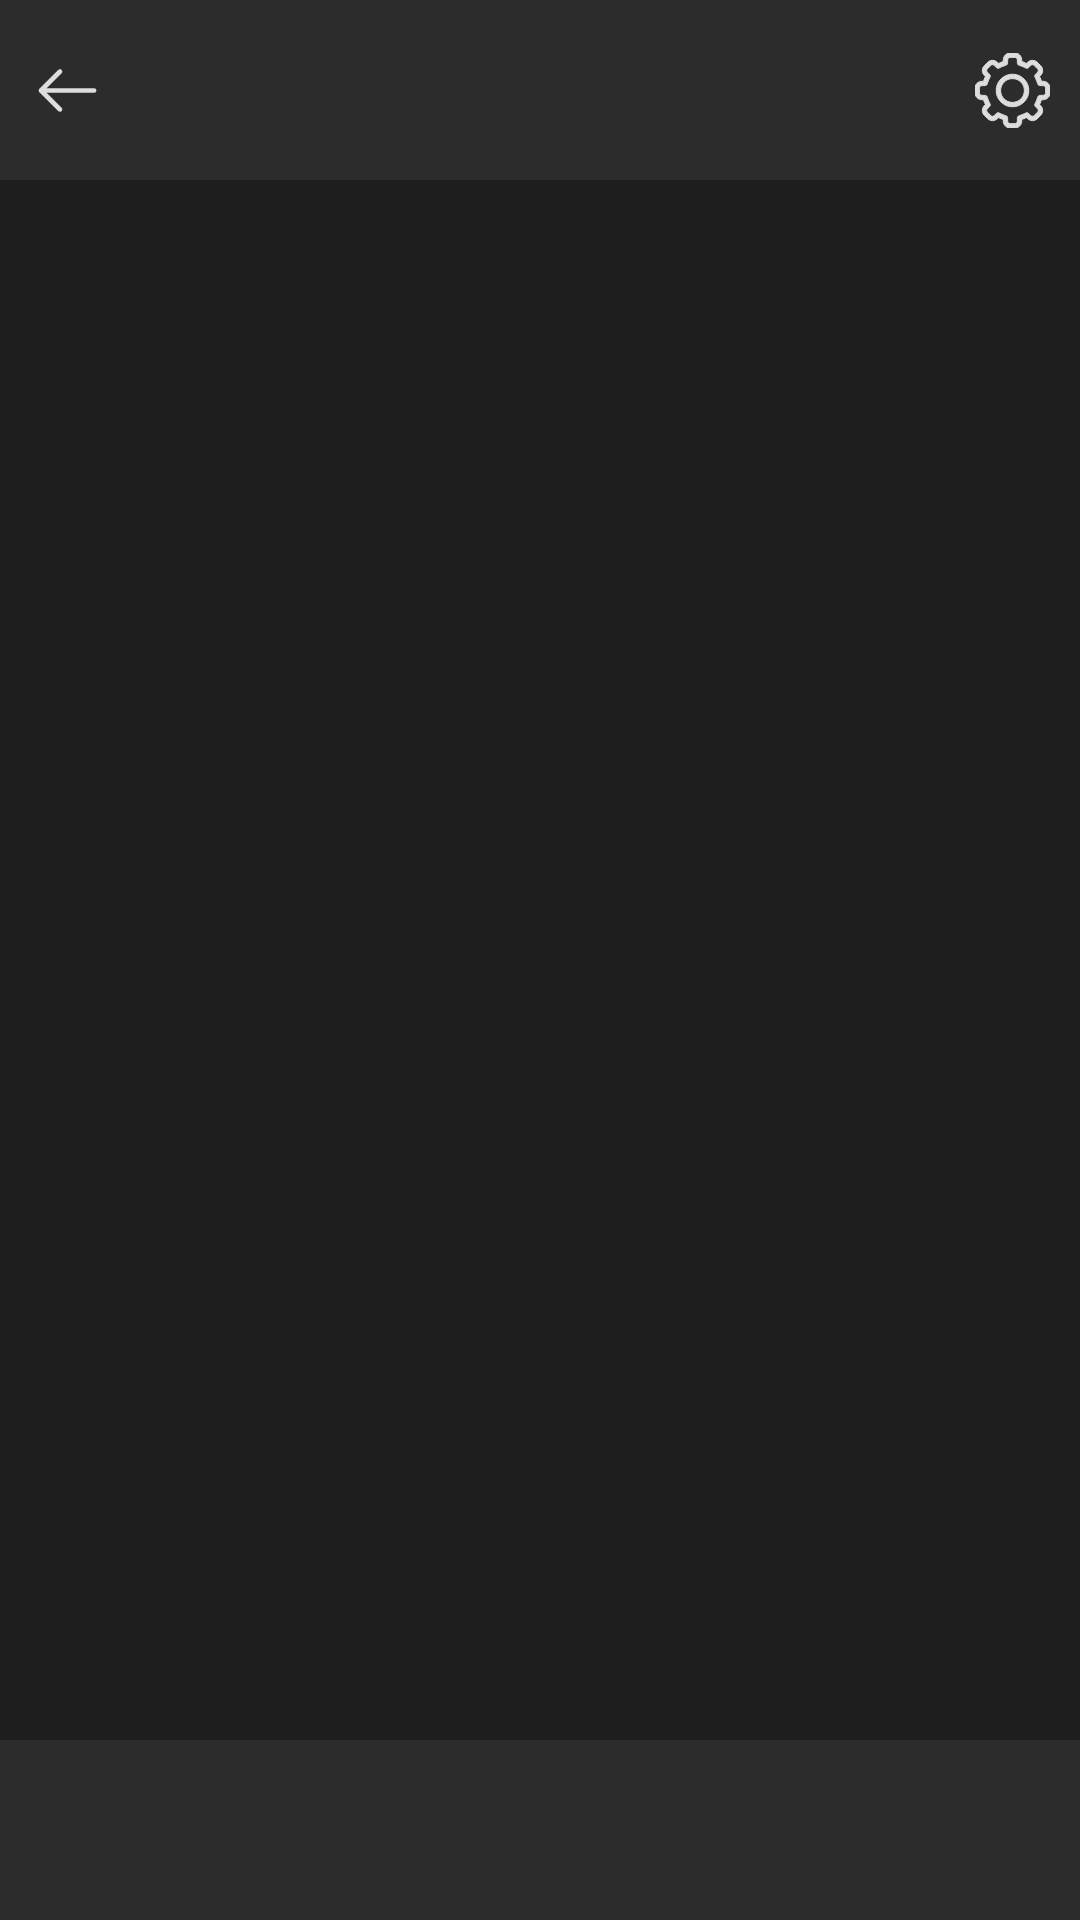

Icons on this 1080×1920 Android screen, each with its box as (x1=x1, y1=y1, x2=x2, y2=y2):
arrow left: (x1=38, y1=69, x2=97, y2=112)
settings: (x1=975, y1=53, x2=1050, y2=128)
